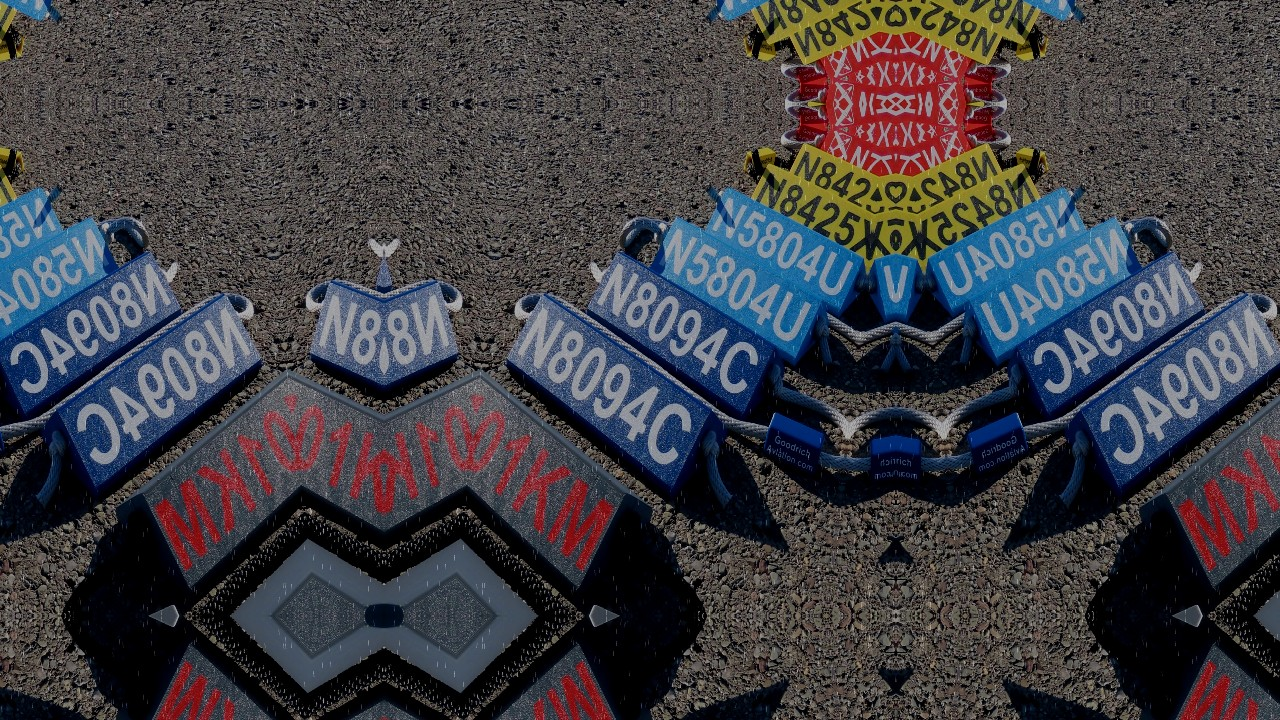chock: (25, 286, 280, 506), (488, 286, 743, 506), (101, 368, 312, 610), (456, 368, 667, 610), (1049, 286, 1280, 506), (574, 248, 798, 427), (994, 248, 1218, 427), (1125, 368, 1280, 610), (0, 248, 194, 427), (640, 215, 839, 372), (953, 215, 1152, 372), (694, 183, 875, 320), (917, 183, 1098, 320), (288, 346, 384, 588), (384, 346, 480, 588), (101, 622, 312, 720), (456, 622, 667, 720), (0, 215, 128, 372), (297, 253, 384, 474), (384, 253, 471, 474), (738, 159, 879, 272), (913, 159, 1054, 272), (1125, 622, 1280, 720), (0, 183, 74, 320), (211, 538, 320, 616), (448, 538, 557, 616), (211, 616, 320, 694), (448, 616, 557, 694), (778, 139, 882, 215), (910, 139, 1014, 215), (288, 644, 384, 720), (384, 644, 480, 720), (778, 0, 882, 69), (910, 0, 1014, 69), (738, 0, 879, 49), (913, 0, 1054, 49), (308, 526, 384, 616), (384, 526, 460, 616), (308, 616, 384, 706), (384, 616, 460, 706), (694, 0, 875, 25), (917, 0, 1098, 25), (1235, 538, 1280, 616), (1235, 616, 1280, 694), (0, 159, 30, 272), (0, 0, 74, 25), (0, 0, 30, 49)
